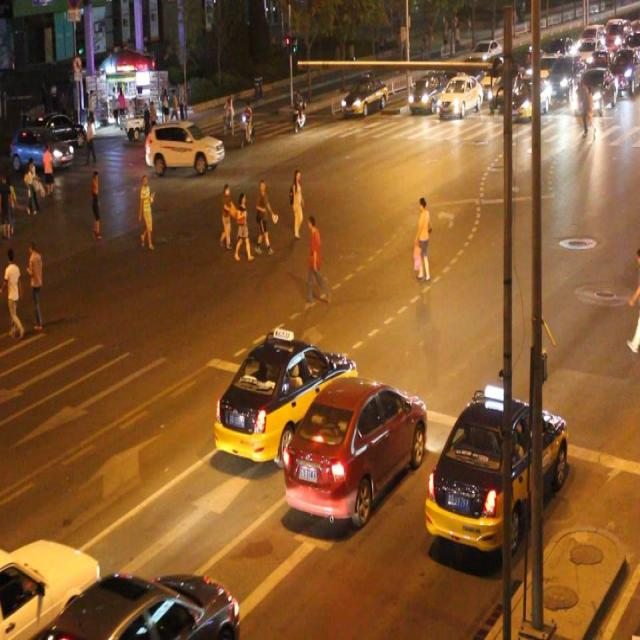car: (424, 394, 566, 554), (281, 375, 425, 521), (215, 336, 355, 456), (39, 563, 237, 640), (0, 532, 99, 640), (146, 123, 222, 172), (13, 123, 73, 171), (341, 74, 386, 119), (436, 76, 482, 120), (407, 70, 446, 114)
